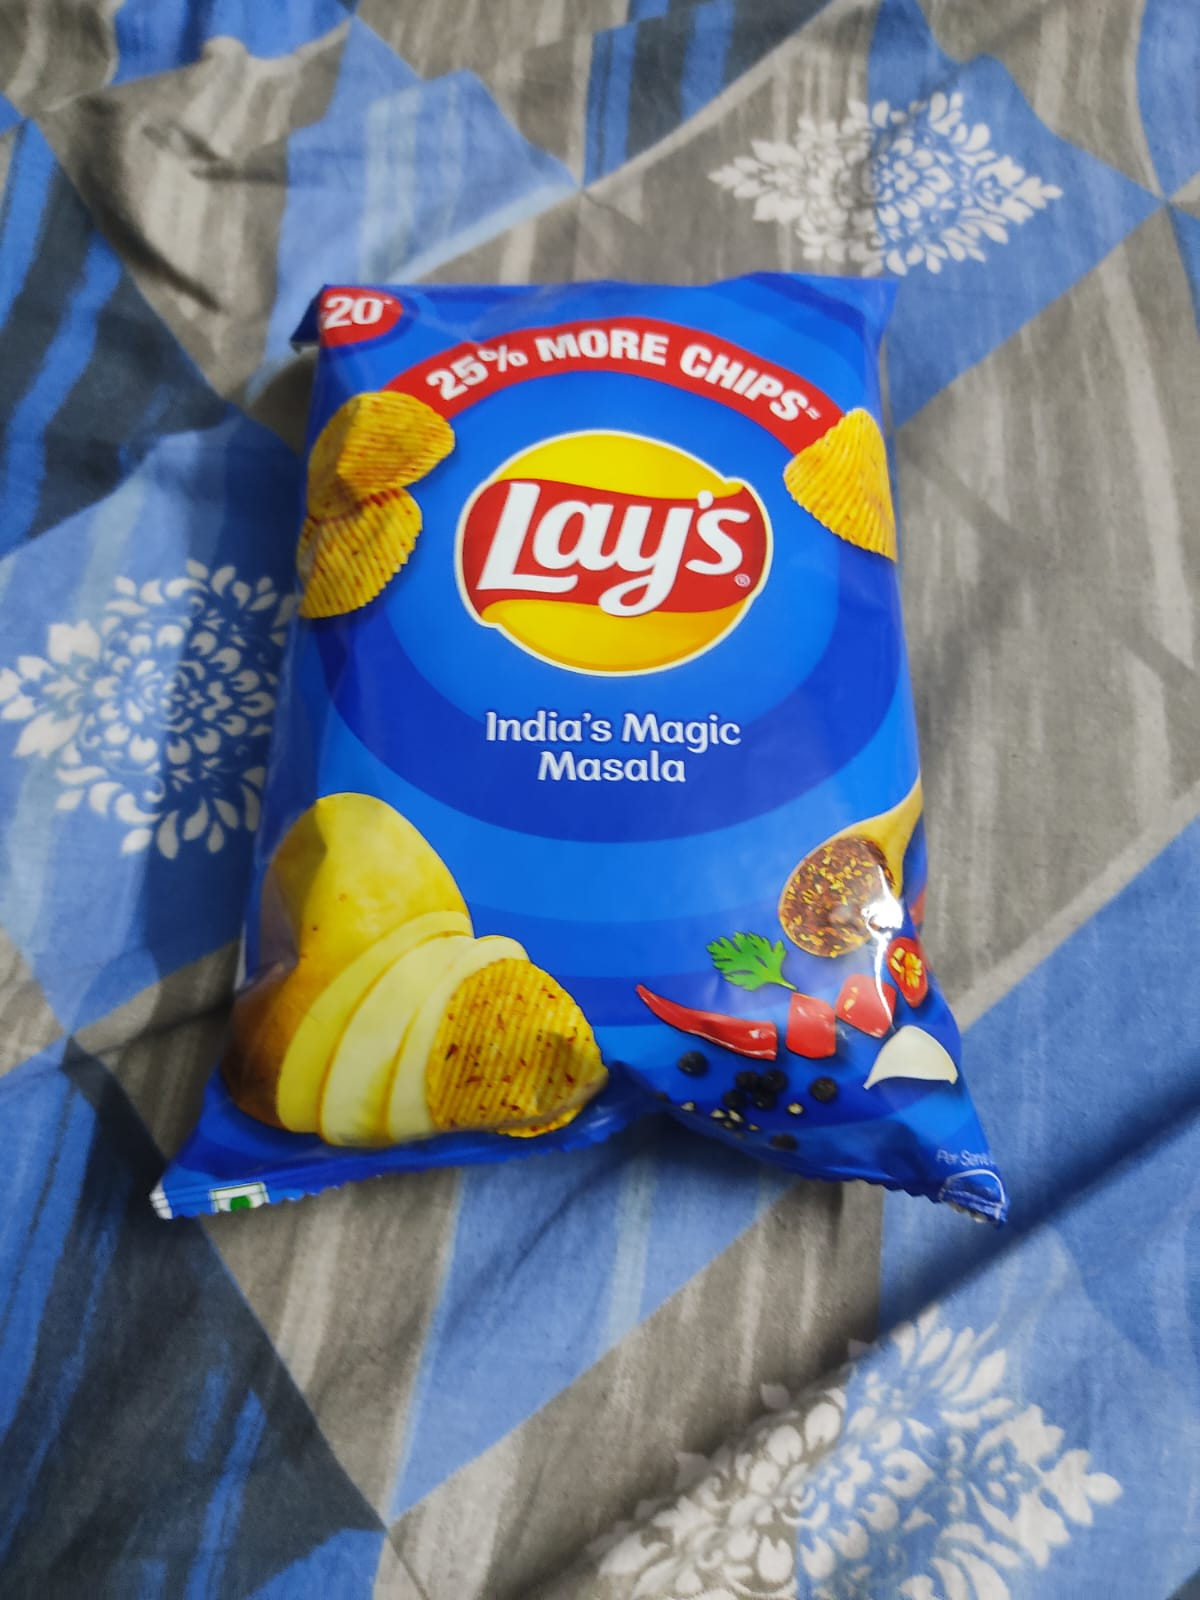020_BlueLays: (222, 287, 977, 1172)
